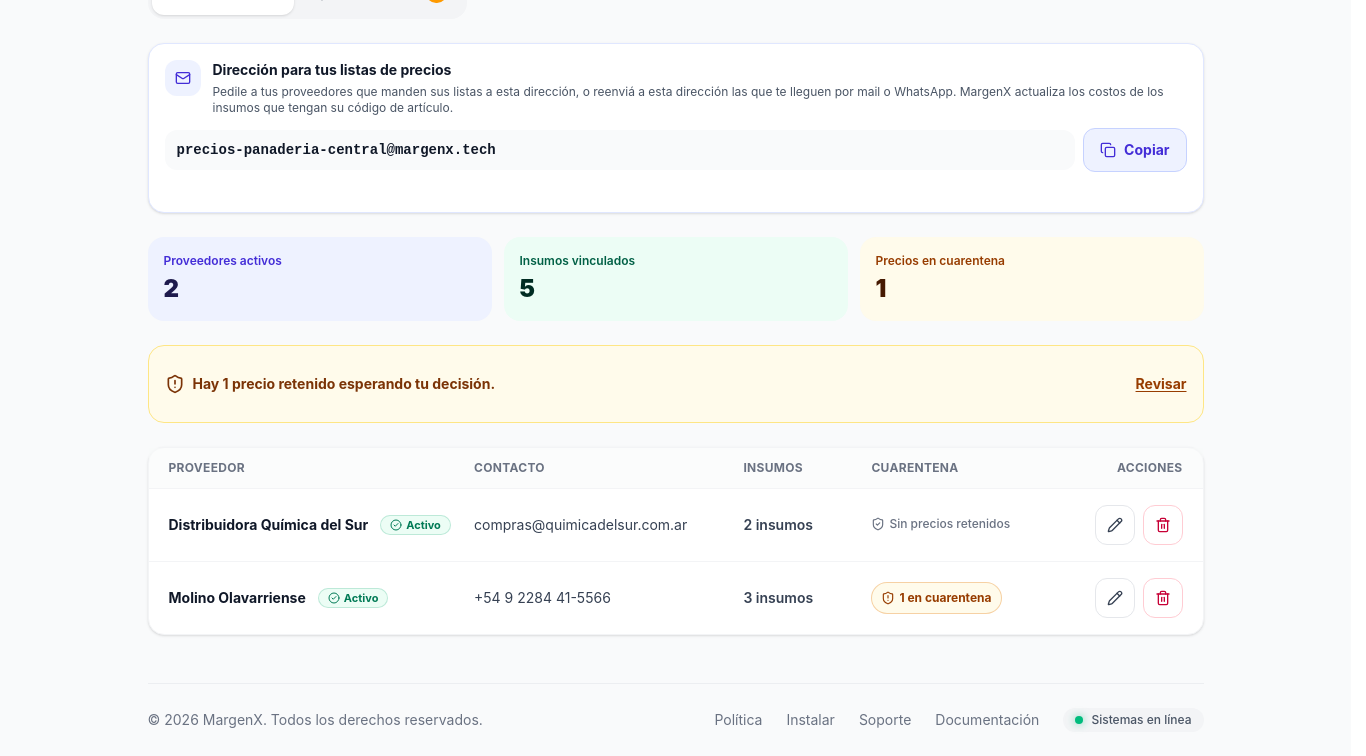
Test: SuppliersPageContent › desactivar en lugar de borrar deja al proveedor como Inactivo
The width and height of the screenshot is (1366, 756).
(page scrolled)
Check: the list named "Proveedores" is shown, box [148,489,1202,634]
Click the button named "Dar de baja Molino Olavarriense". click: (1162, 598)
box: [1142,578,1182,618]
(page scrolled)
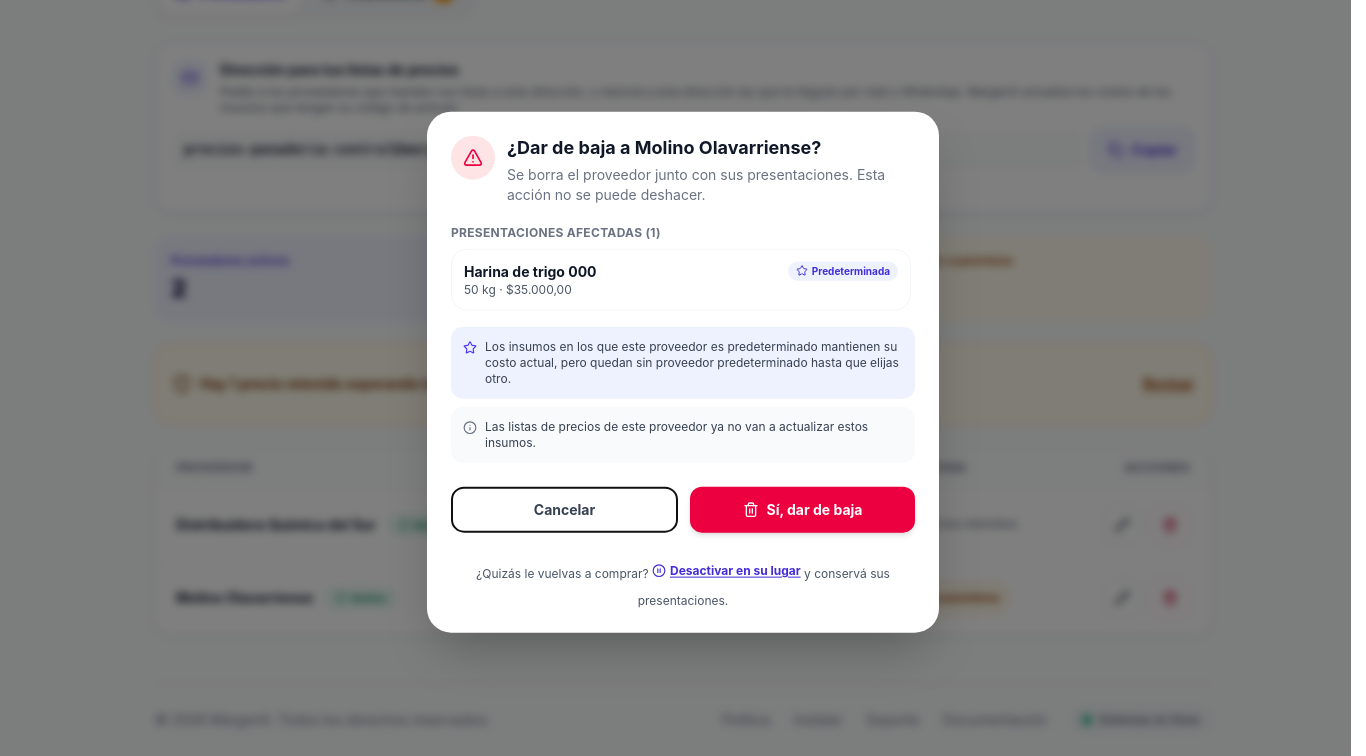
Click the button "Desactivar en su lugar". click: (726, 570)
box: [652,548,801,592]
(page scrolled)
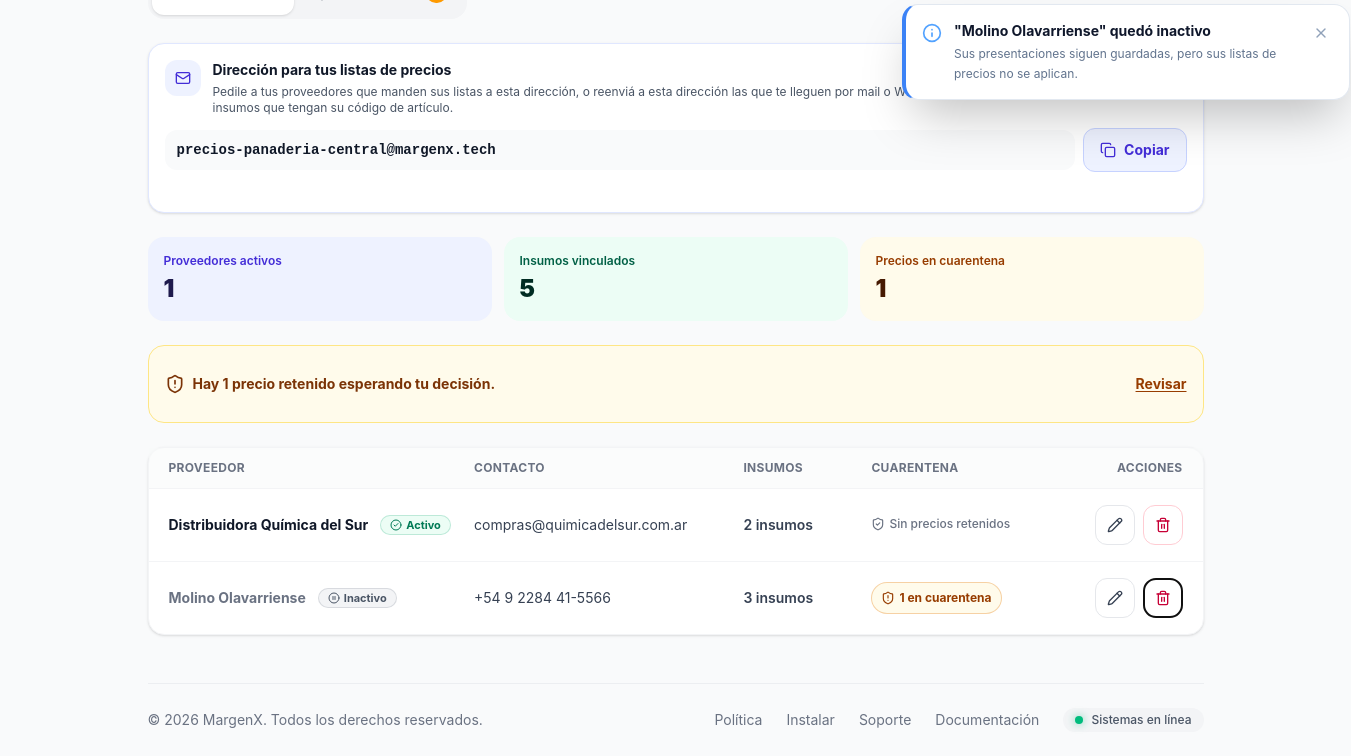
Check: the text "3 insumos" is shown, box [743,589,813,606]
Check: the text "Inactivo" is shown, box [318,588,397,608]
Check: the text "\"Molino Olavarriense\" quedó inactivo" is shown, box [954,22,1211,39]
